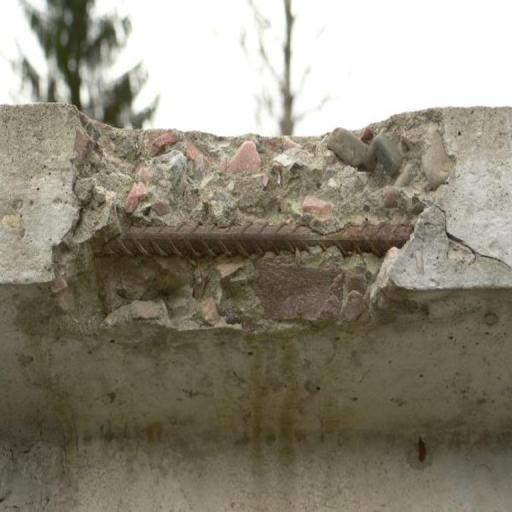spalling: (74, 104, 442, 322)
